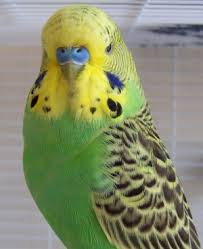budgie: (22, 5, 202, 249)
